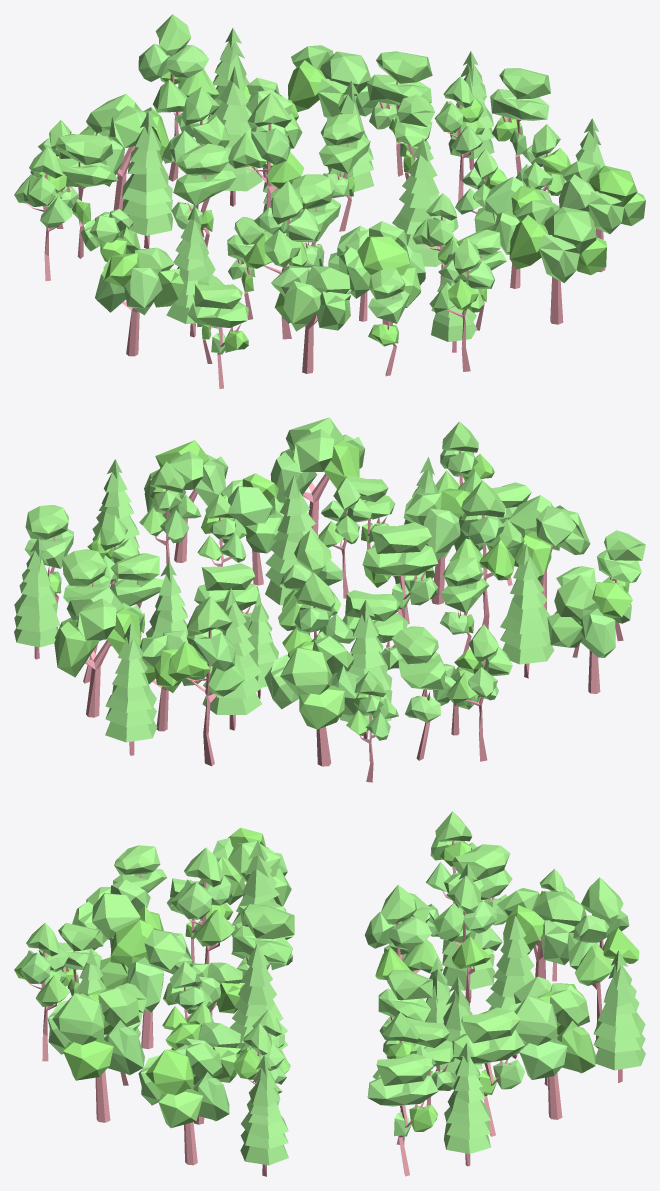
Rendered from ForestMainRail1.fbx.
3 renders of one model, top to bottom at view 1: azimuth 30°, elevation 25°; view 2: azimuth 150°, elevation 25°; view 3: azimuth 270°, elevation 25°, orthographic. The views are drawn at different scales.
Visible parts, largest first — view 1: Forest.013; view 2: Forest.013; view 3: Forest.013.
Part boxes in pixels (x1,y1,x2,y2): Forest.013: [14, 14, 645, 388]; Forest.013: [14, 417, 645, 782]; Forest.013: [14, 811, 645, 1176].
Bounding box in the file's own units: 1352 × 416 × 1392.
